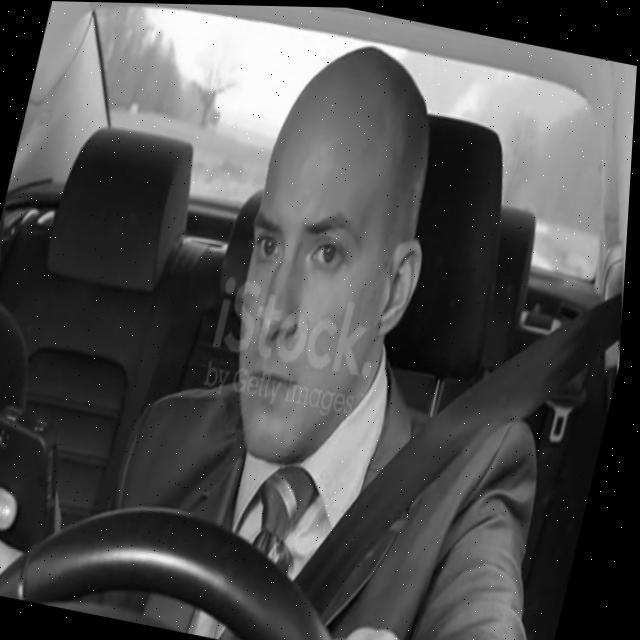PhoneCall: (0, 402, 84, 554)
